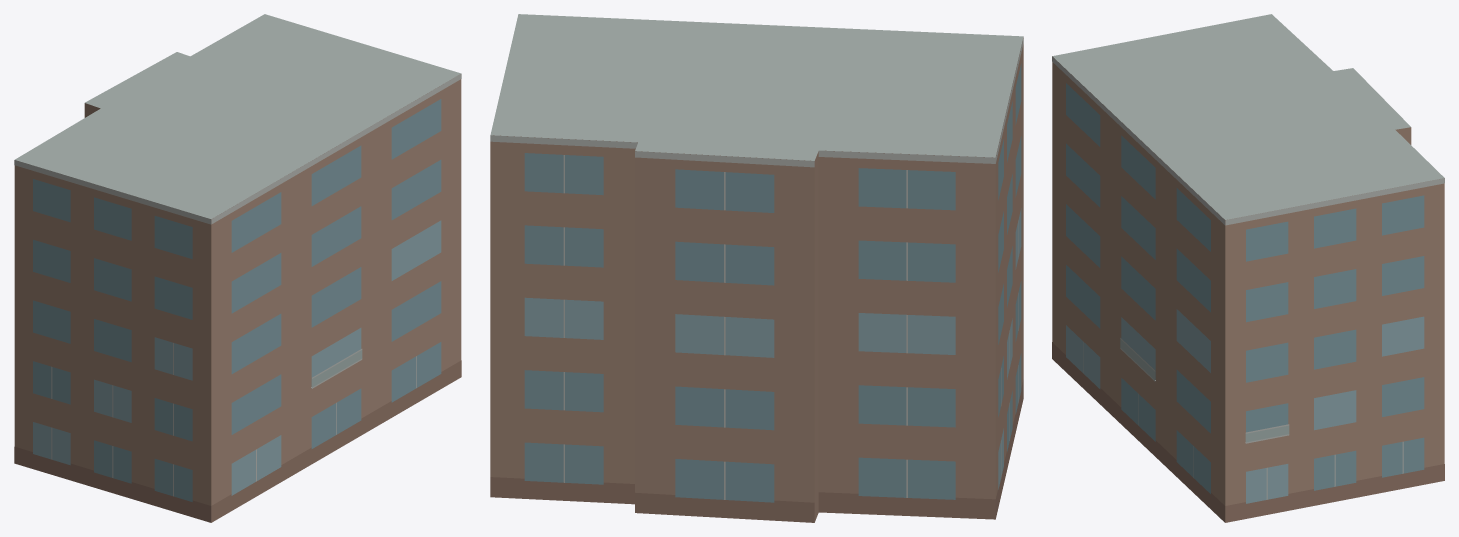
Rendered from survey-upis-32679466.glb.
3 views of the same model, side by side, from view 1: azimuth 30°, elevation 25°; view 2: azimuth 150°, elevation 25°; view 3: azimuth 270°, elevation 25° (orthographic). The views are drawn at different scales.
Parts seen in each view (by area): view 1: survey-upis-32679466.tmp; view 2: survey-upis-32679466.tmp; view 3: survey-upis-32679466.tmp.
Boxes of the visible parts, x1,y1,x2,y2 form: survey-upis-32679466.tmp: [14, 14, 461, 522]; survey-upis-32679466.tmp: [490, 14, 1023, 522]; survey-upis-32679466.tmp: [1052, 14, 1444, 522].
Size of the model in its own units: 20.01 by 13.7 by 16.11.
